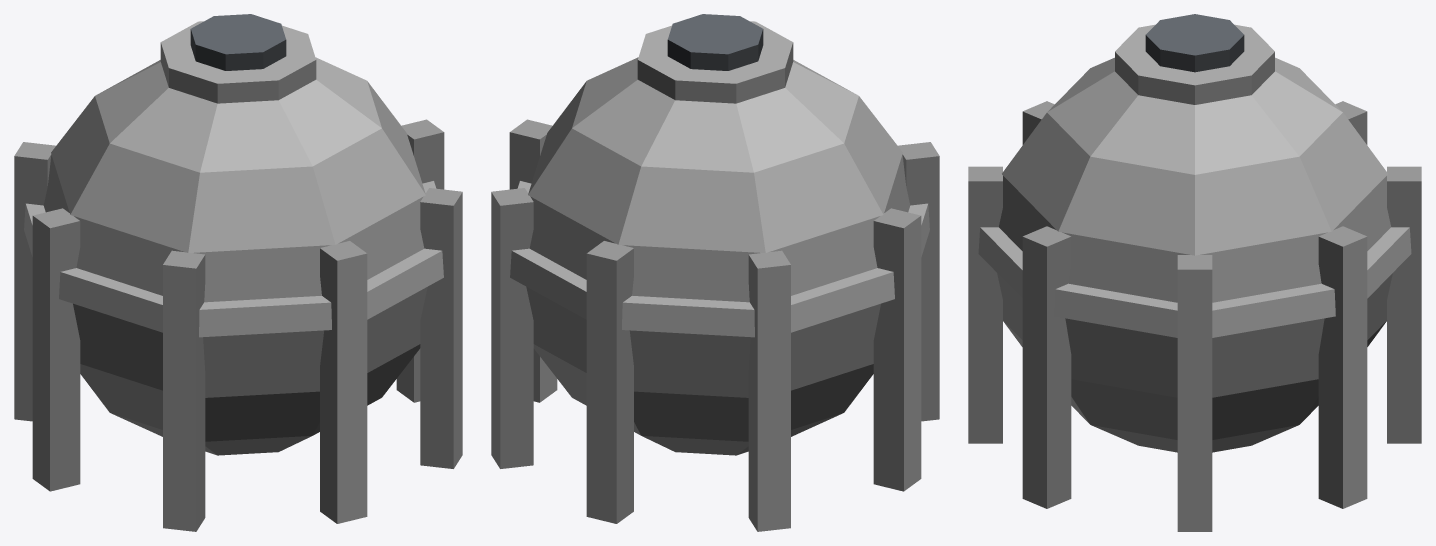
File: SM_Bld_Tank_01.fbx
The picture shows the model from 3 angles, left to right: view 1: azimuth 30°, elevation 25°; view 2: azimuth 150°, elevation 25°; view 3: azimuth 270°, elevation 25°; orthographic projection.
Visible parts, largest first — view 1: SM_Bld_Tank_01; view 2: SM_Bld_Tank_01; view 3: SM_Bld_Tank_01.
Boxes of the visible parts, x1,y1,x2,y2 form: SM_Bld_Tank_01: (14, 14, 462, 531); SM_Bld_Tank_01: (491, 14, 939, 531); SM_Bld_Tank_01: (968, 14, 1421, 531).
Bounding box in the file's own units: 15.47 × 15.12 × 15.47.
